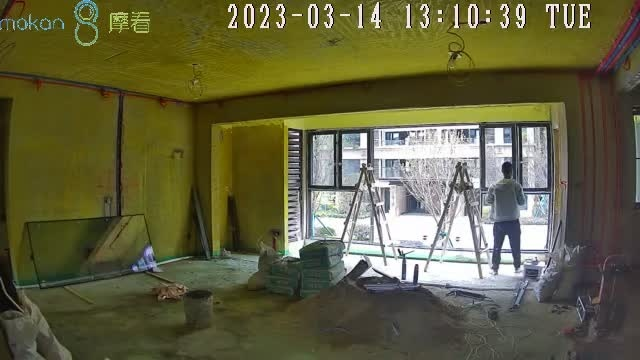people: (486, 163, 528, 276)
window: (303, 125, 552, 263)
